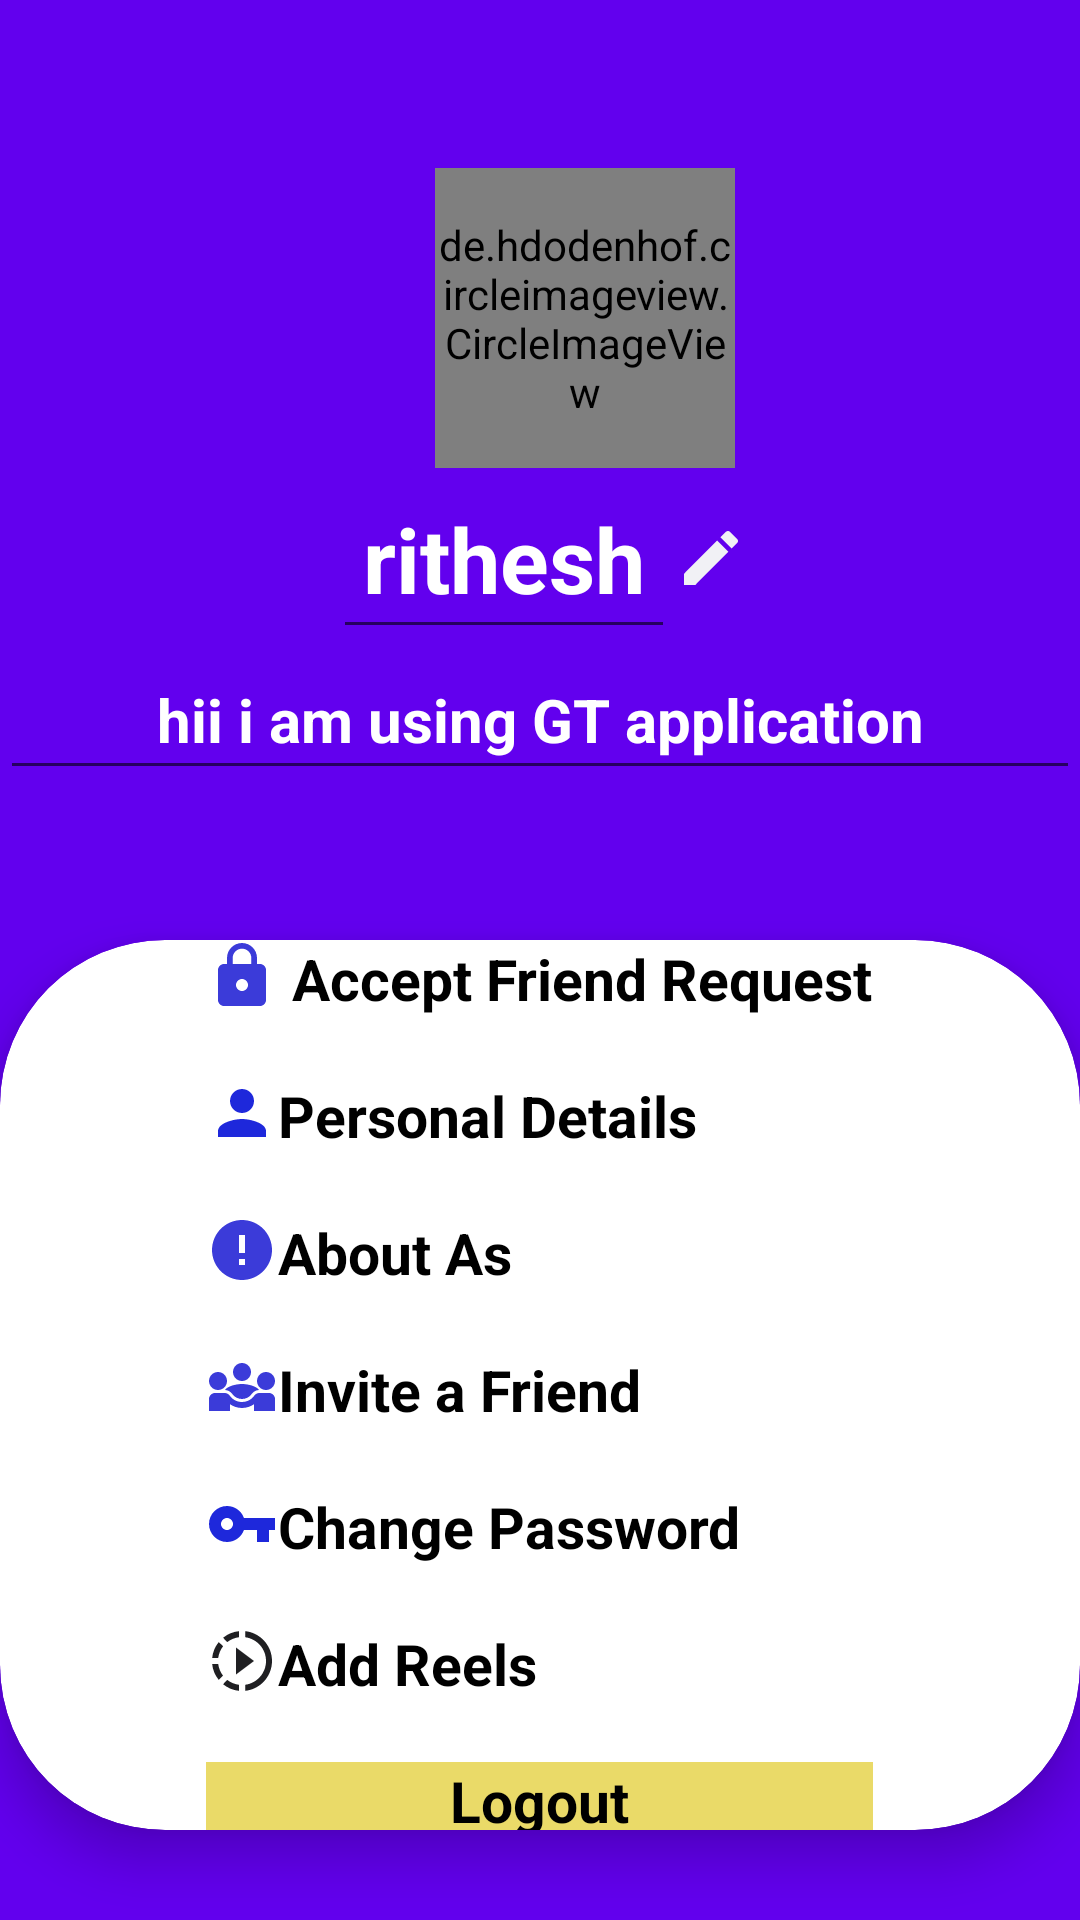

Icons on this 1080px×1920px Android screen, each with the point to tap as [x,y]:
edit: [711,558]
lock: [242,974]
passwordreset: [242,1524]
